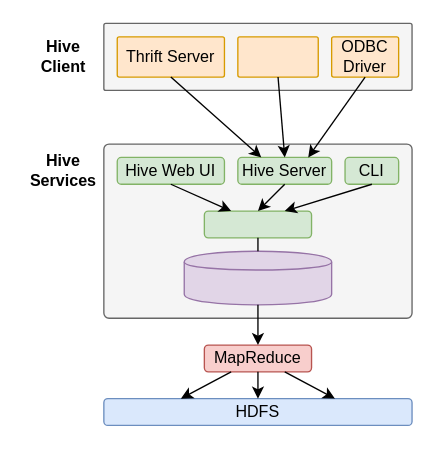
This 436x449 diagram has some shape labels left out. The shapes that lost their labels are listed below. From the top down, each one's box as (x1, y1, x2, y2) in pixels, then its label:
(237, 36, 318, 77): JDBC Driver
(203, 210, 312, 238): Hive Driver
(183, 250, 332, 305): Hive Meta Store
